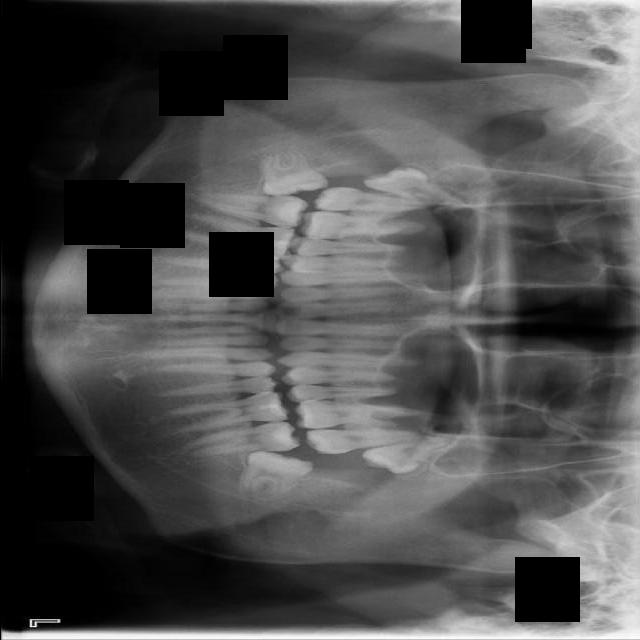3M ESPE Implant: (360, 157, 470, 212)
52: (252, 217, 302, 266), (242, 388, 291, 427)
73: (42, 607, 53, 615)
BioHorizons Implant: (303, 428, 432, 456)
BioLife Implant: (360, 429, 465, 482)
Biomet 3i Implant: (235, 443, 314, 512)
Blue Sky Bio Implant: (185, 419, 301, 459)
Caries: (313, 186, 432, 212)
Implant: (190, 189, 309, 231)
Keystone Dental Implant: (255, 142, 328, 201)
